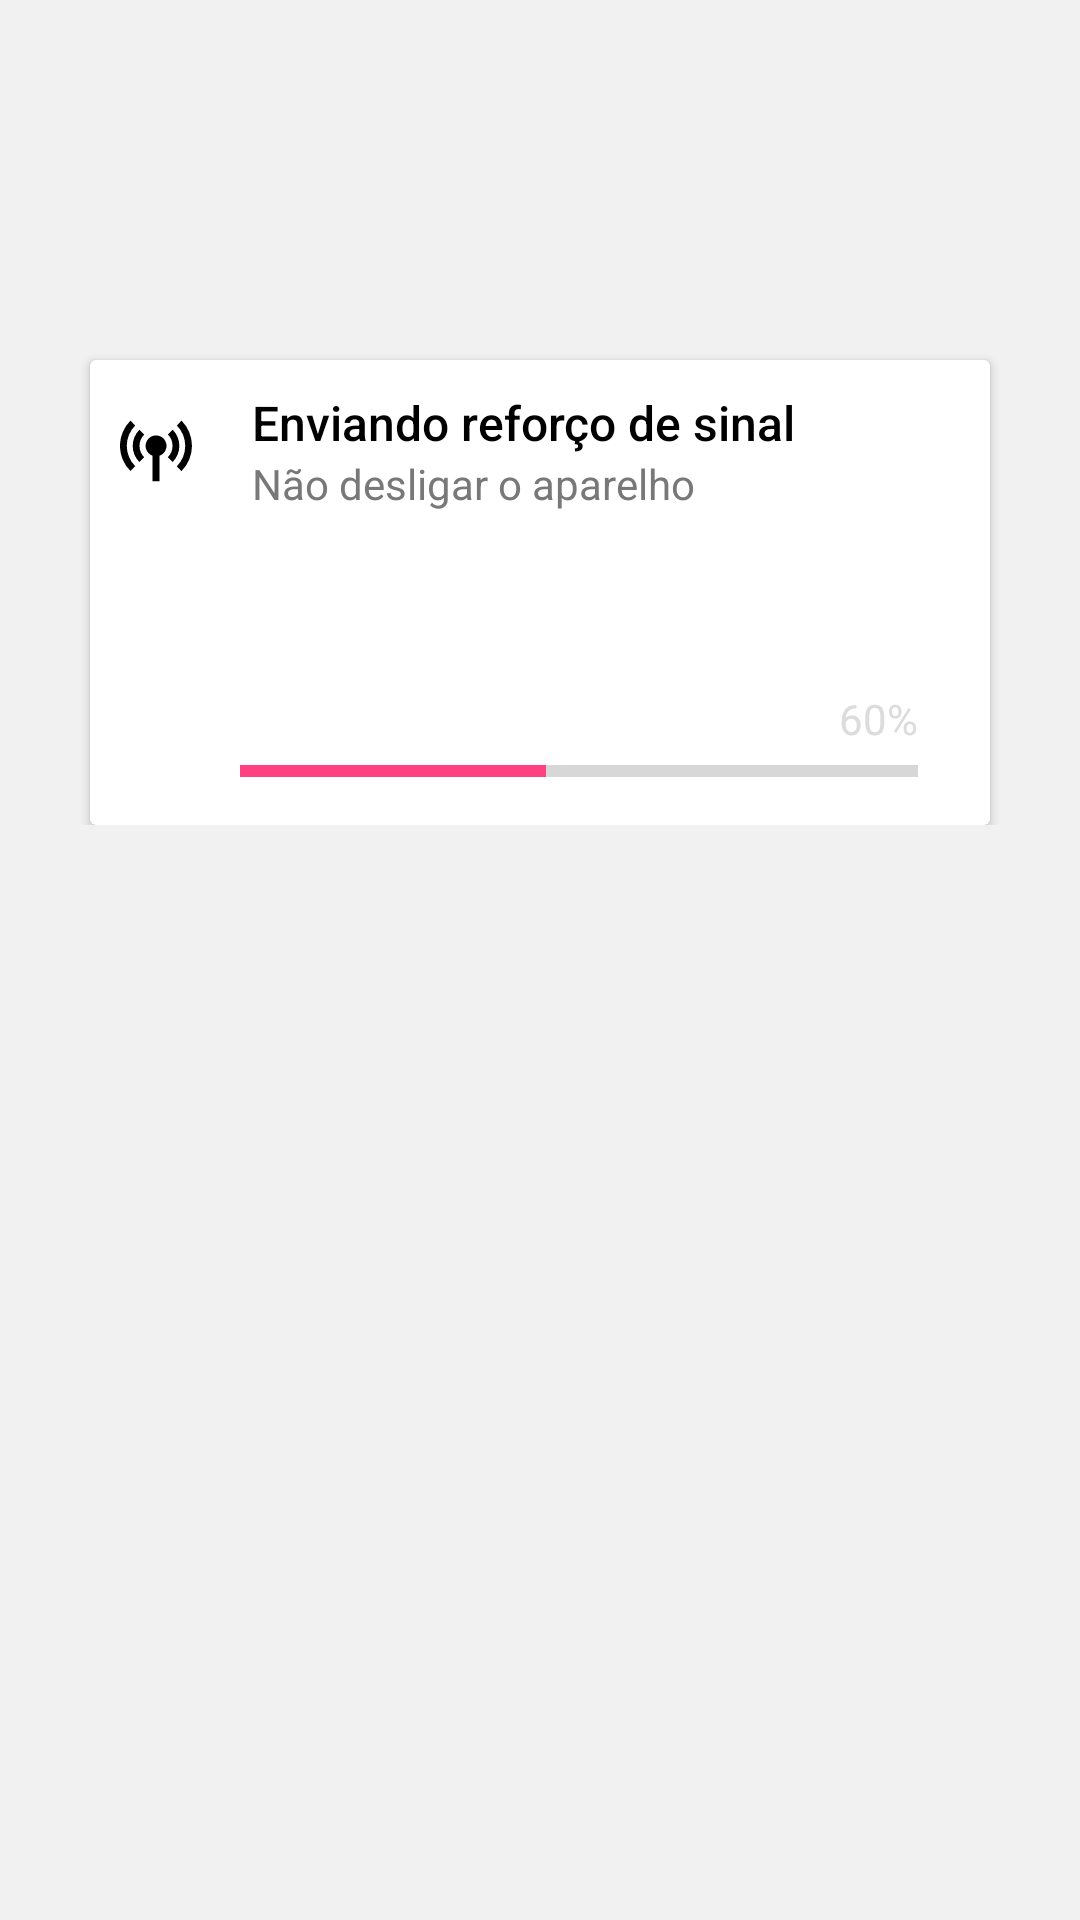

Screen size 1080 × 1920. Icon name, then its box in pixels as (x1, y1, x2, y2):
signal: (120, 420, 192, 482)
